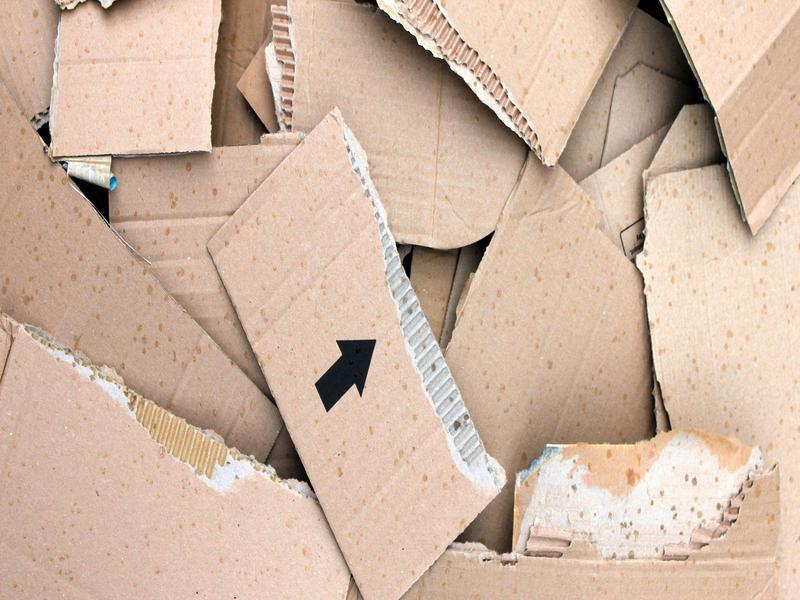cardboard: (214, 106, 511, 600), (2, 302, 356, 600), (621, 156, 800, 451), (503, 430, 800, 600), (38, 1, 227, 168)
